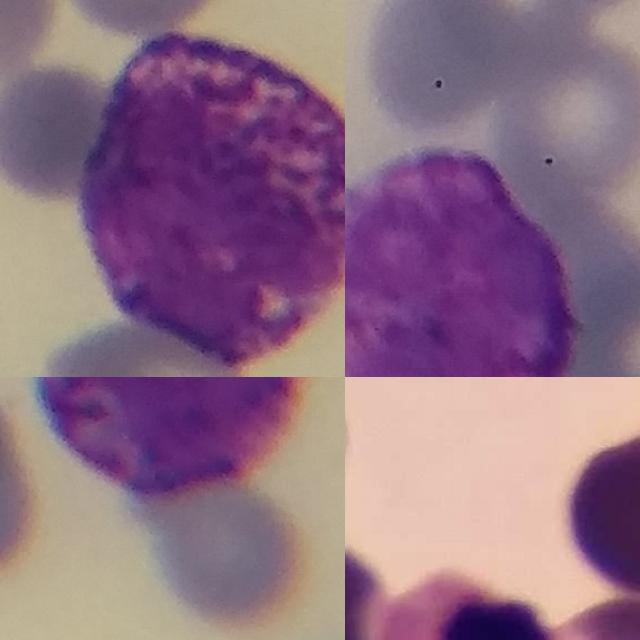Basophil: (83, 38, 345, 360), (345, 141, 578, 377), (37, 377, 312, 502)
Neutrophil: (373, 573, 564, 640)
